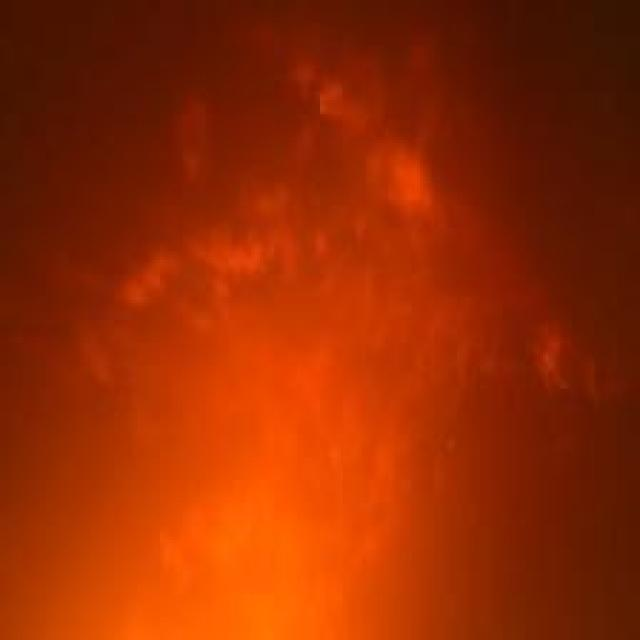fire: (14, 66, 591, 626)
